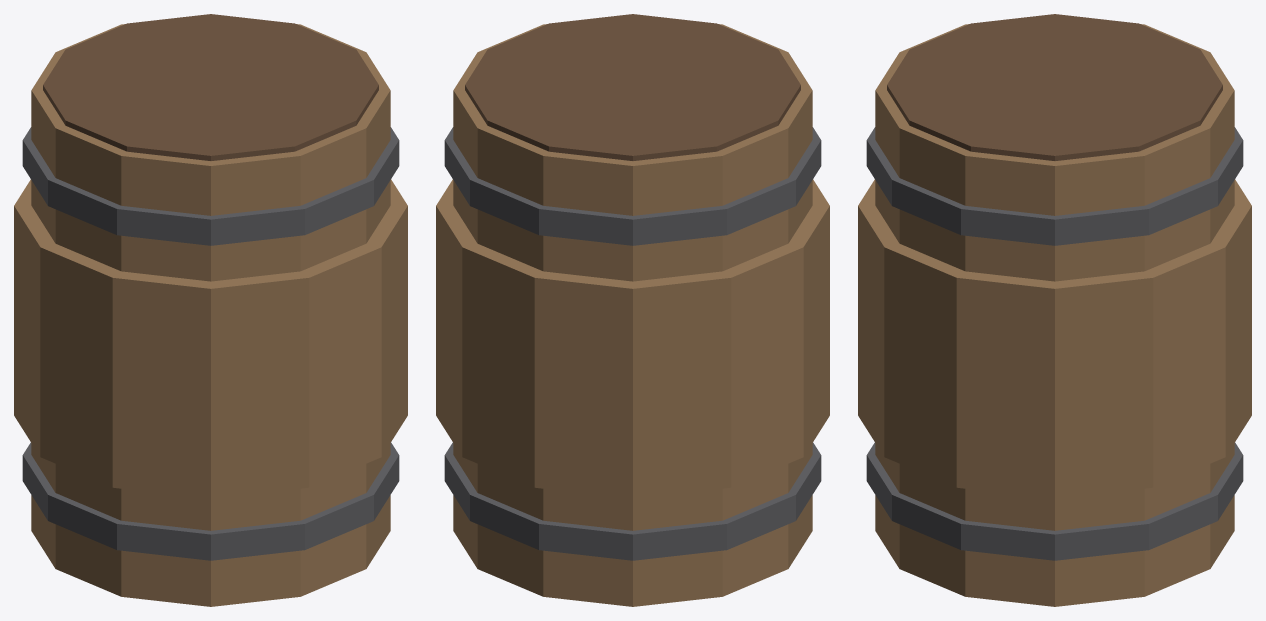
File: barrel.glb
3 renders of one model, left to right at view 1: azimuth 30°, elevation 25°; view 2: azimuth 150°, elevation 25°; view 3: azimuth 270°, elevation 25°, orthographic.
Parts seen in each view (by area): view 1: barrel; view 2: barrel; view 3: barrel.
Part boxes in pixels (bbox=[...]): barrel: bbox=[14, 14, 407, 606]; barrel: bbox=[436, 14, 829, 606]; barrel: bbox=[858, 14, 1251, 606].
Bounding box in the file's own units: 0.68 × 0.85 × 0.68.
